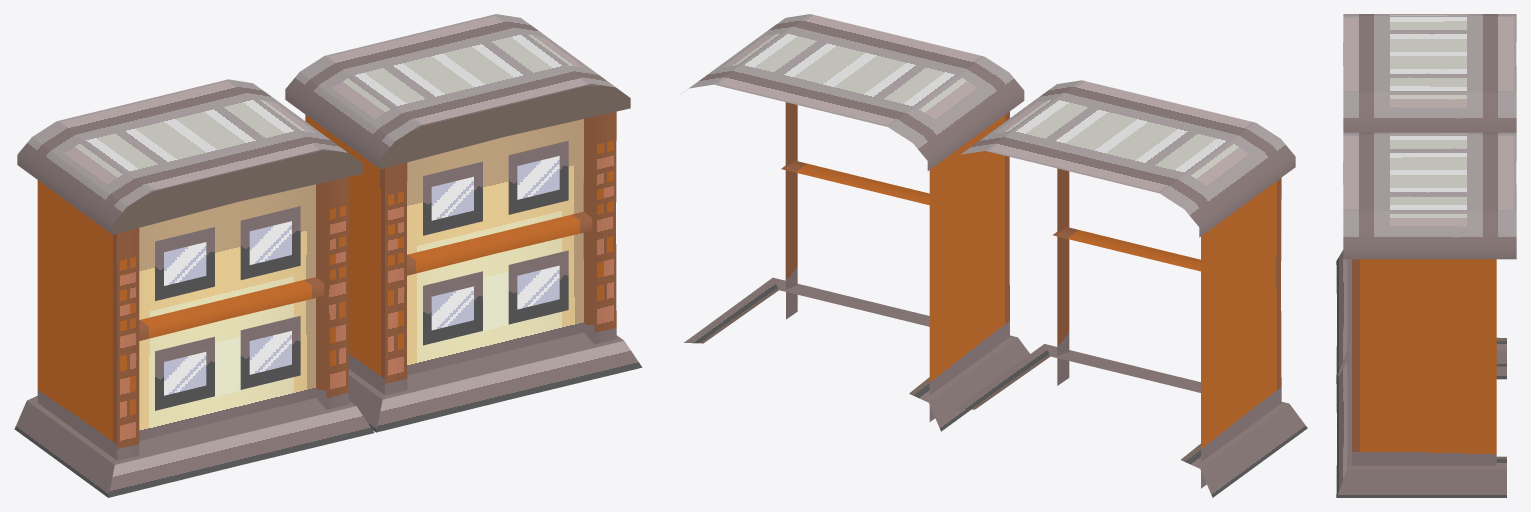
3 renders of one model, left to right at view 1: azimuth 30°, elevation 25°; view 2: azimuth 150°, elevation 25°; view 3: azimuth 270°, elevation 25°, orthographic. The views are drawn at different scales.
Bounding box in the file's own units: 7.98 × 4.18 × 2.56.
2 materials, 2 textured.
